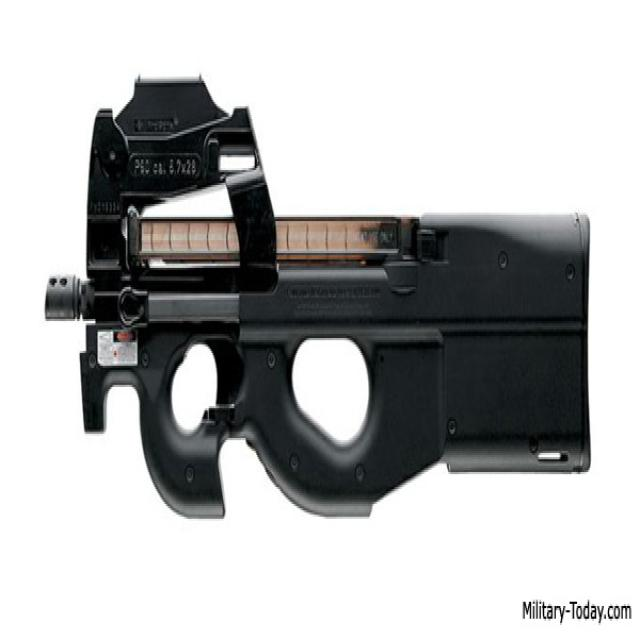Gun: (25, 74, 612, 542)
